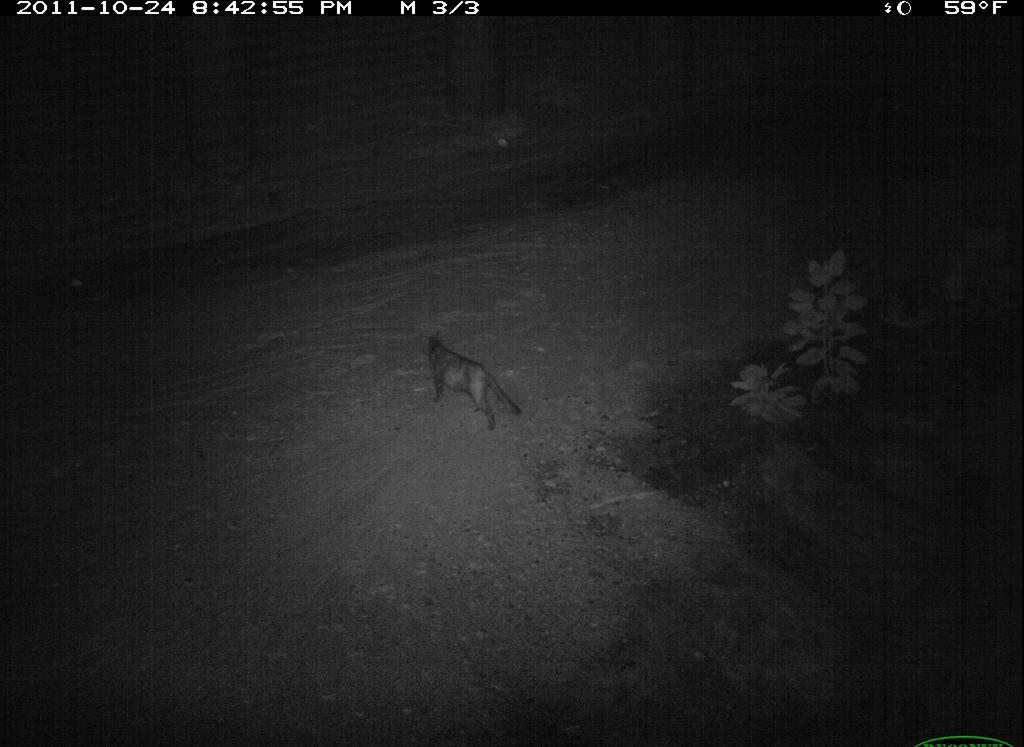cat: (405, 323, 536, 449)
